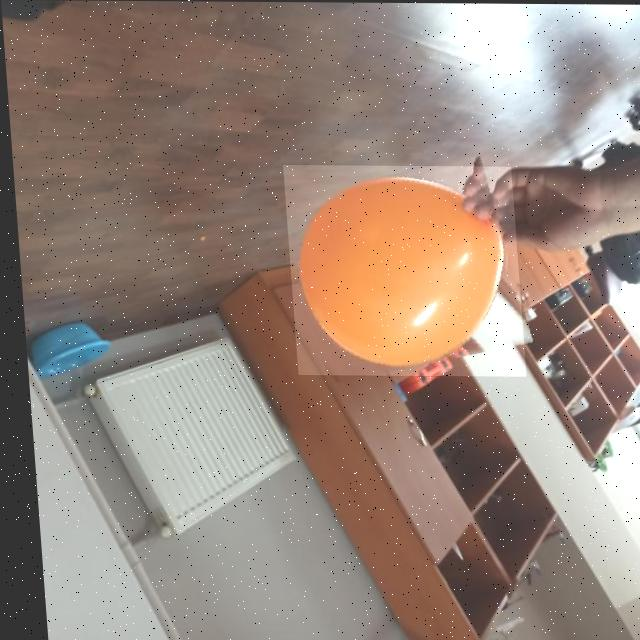balloon: (279, 165, 520, 376)
